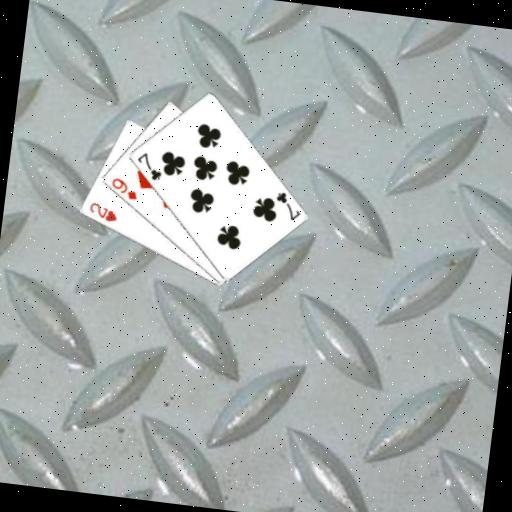2H: (85, 199, 120, 224)
7C: (270, 188, 304, 223), (132, 149, 166, 183)
9D: (107, 175, 141, 203)
